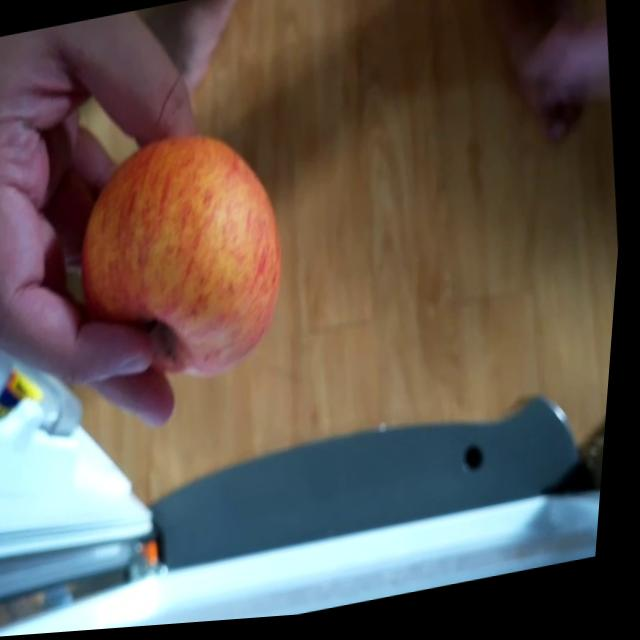apple: (64, 115, 310, 410)
